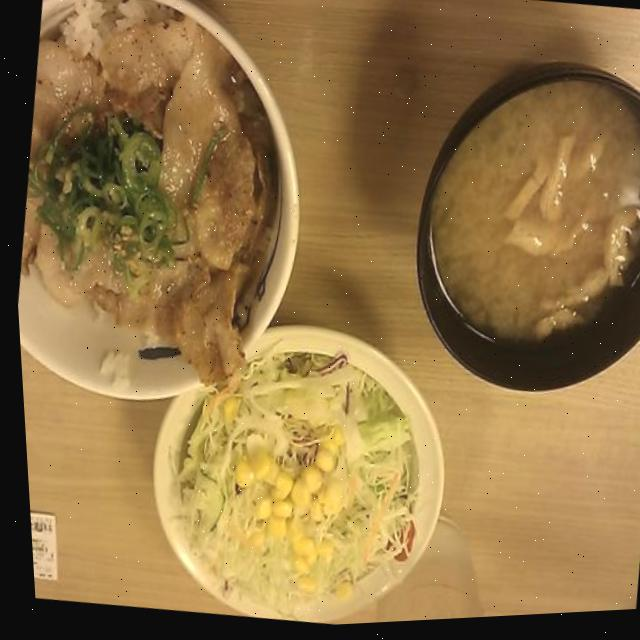汤锅炖物: (374, 50, 640, 425)
蔬菜料理: (114, 309, 462, 636)
